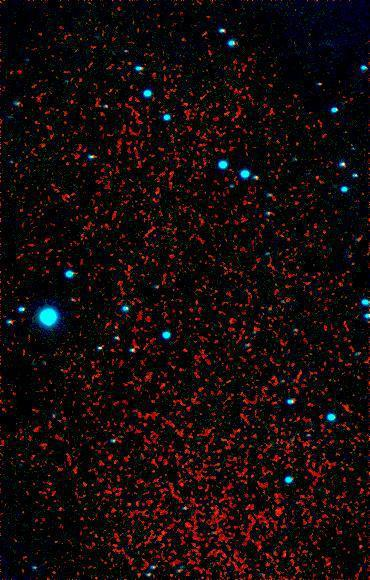star: (260, 499, 290, 529)
